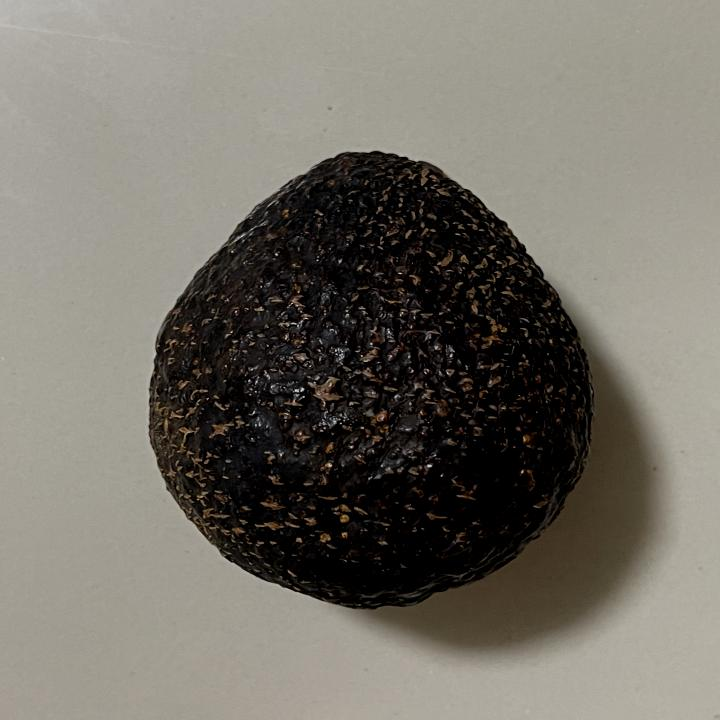Level3: (135, 143, 606, 617)
